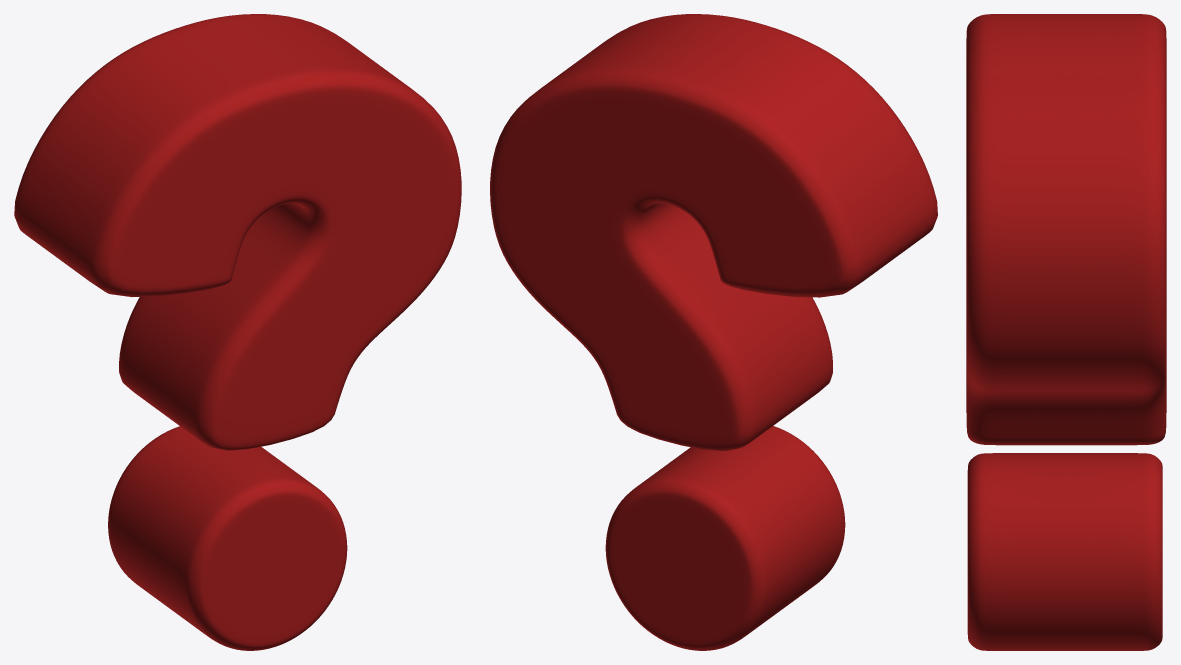
The model's file is Question Mark.glb.
The picture shows the model from 3 angles, left to right: view 1: azimuth 30°, elevation 25°; view 2: azimuth 150°, elevation 25°; view 3: azimuth 270°, elevation 25°; orthographic projection. The views are drawn at different scales.
Parts seen in each view (by area): view 1: BHGSPUNCT_10.1; view 2: BHGSPUNCT_10.1; view 3: BHGSPUNCT_10.1.
Boxes of the visible parts, x1,y1,x2,y2 form: BHGSPUNCT_10.1: (14, 14, 461, 650); BHGSPUNCT_10.1: (490, 14, 937, 650); BHGSPUNCT_10.1: (966, 14, 1166, 650).
Bounding box in the file's own units: 0.0638 × 0.0937 × 0.028.
1 material, 1 textured.
